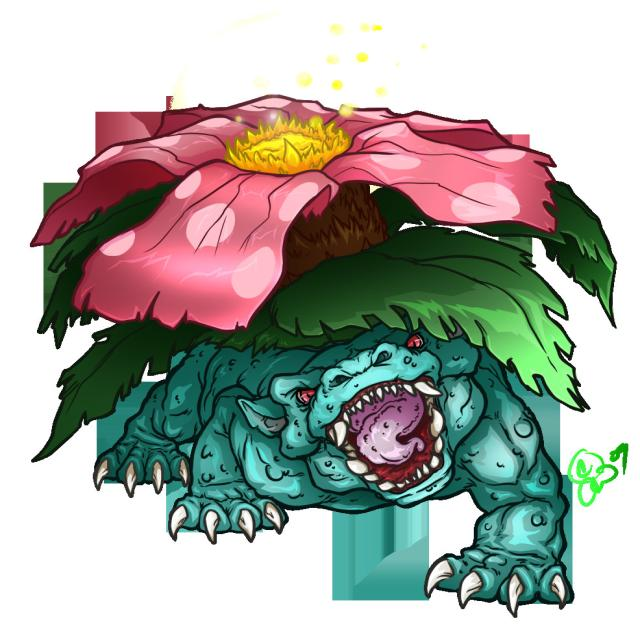Venusaur: (66, 70, 561, 514)
